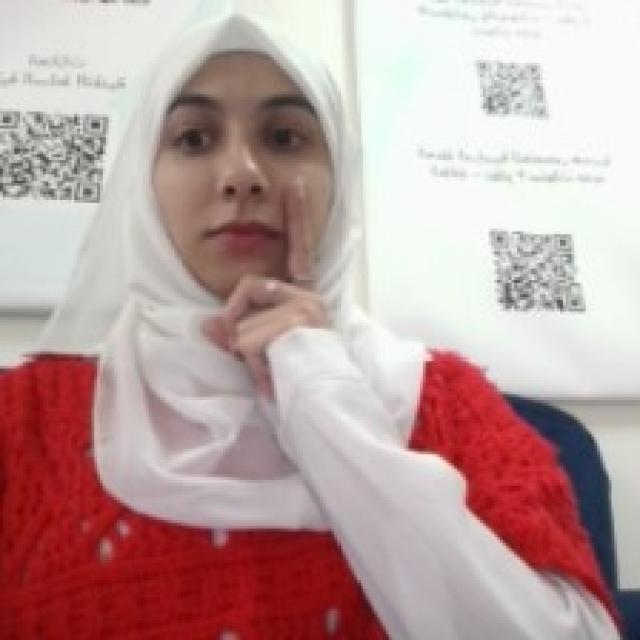mother: (191, 166, 340, 406)
